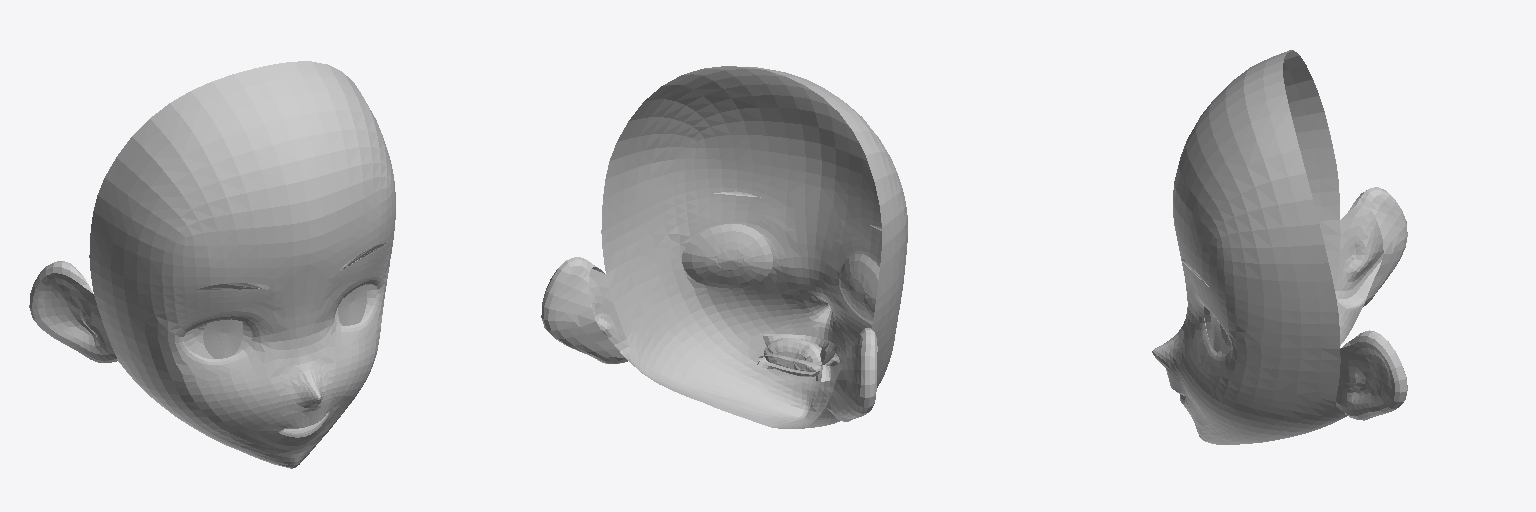
Rendered from cheekSquintLeft.obj.
3 renders of one model, left to right at view 1: azimuth 30°, elevation 25°; view 2: azimuth 150°, elevation 25°; view 3: azimuth 270°, elevation 25°, orthographic.
Parts seen in each view (by area): view 1: Face; view 2: Face; view 3: Face.
Boxes of the visible parts, x1=… form: Face: x1=29, y1=61, x2=395, y2=468; Face: x1=541, y1=66, x2=907, y2=428; Face: x1=1152, y1=50, x2=1407, y2=444.
Bounding box in the file's own units: 0.2176 × 0.2333 × 0.1449.